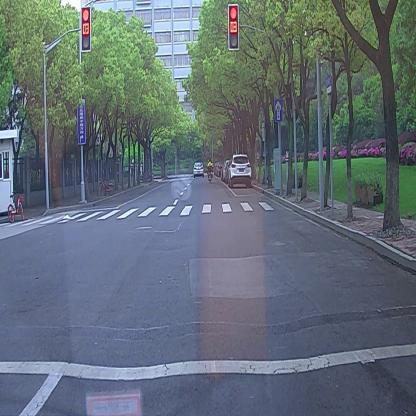Red Light: (228, 3, 240, 52), (80, 7, 92, 52)
